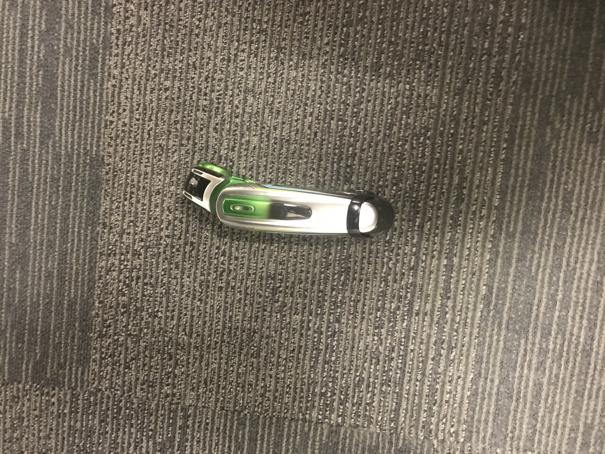Freewheel: (182, 159, 395, 234)
